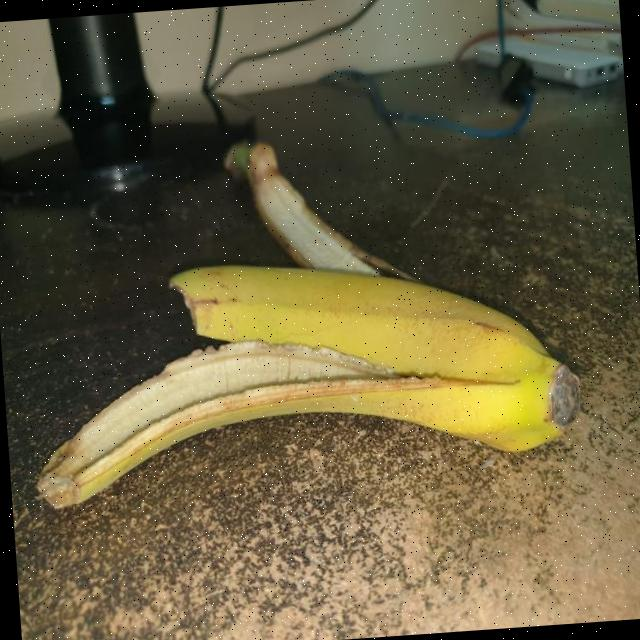banana-peel: (12, 119, 586, 512)
